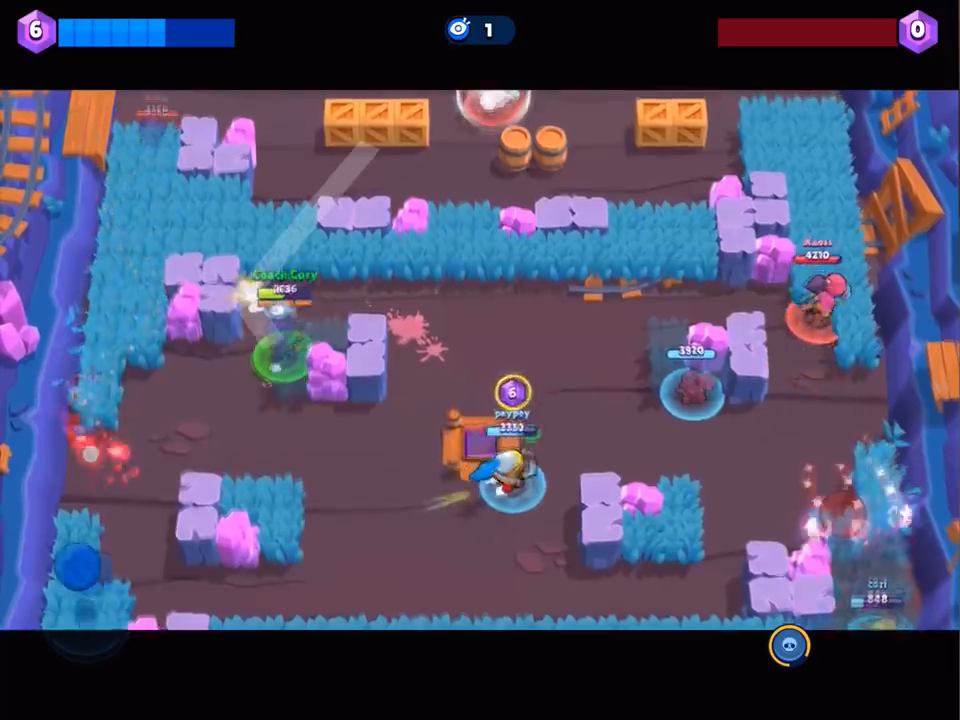red: (779, 247, 848, 345)
